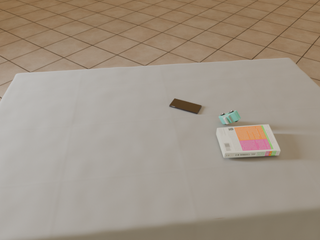book: (216, 125, 280, 158)
phone: (169, 99, 201, 114)
toy_car: (219, 110, 241, 124)
